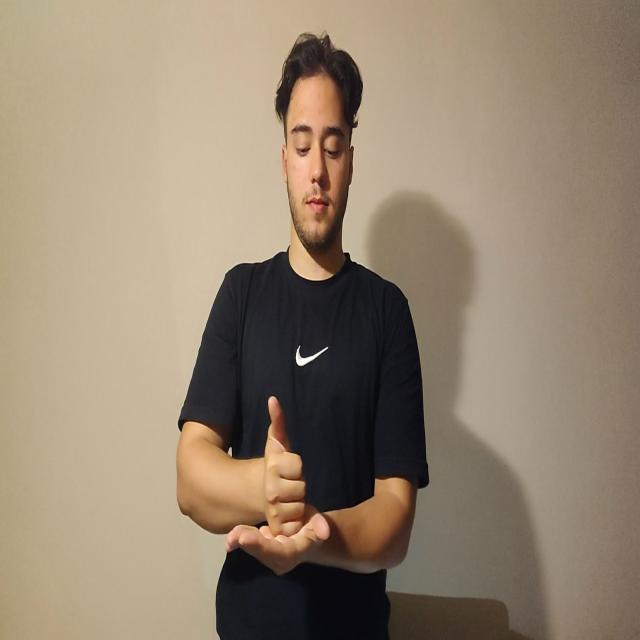help: (227, 396, 330, 574)
